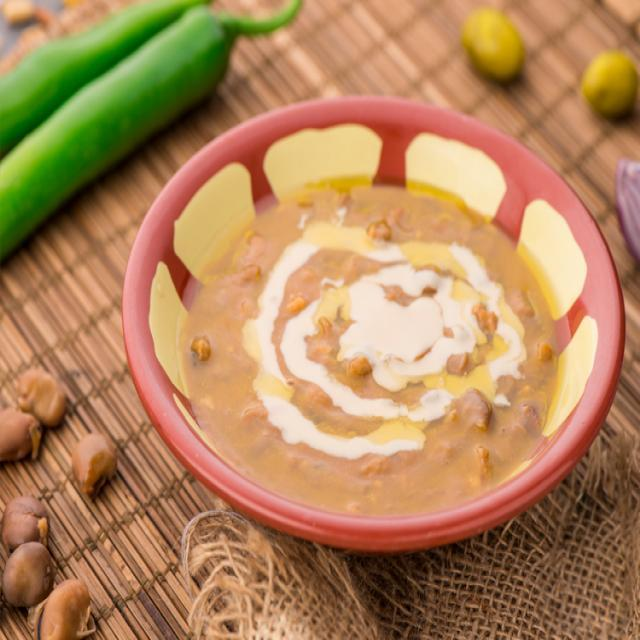fool: (176, 170, 578, 522)
